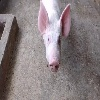heo: (36, 2, 73, 75)
